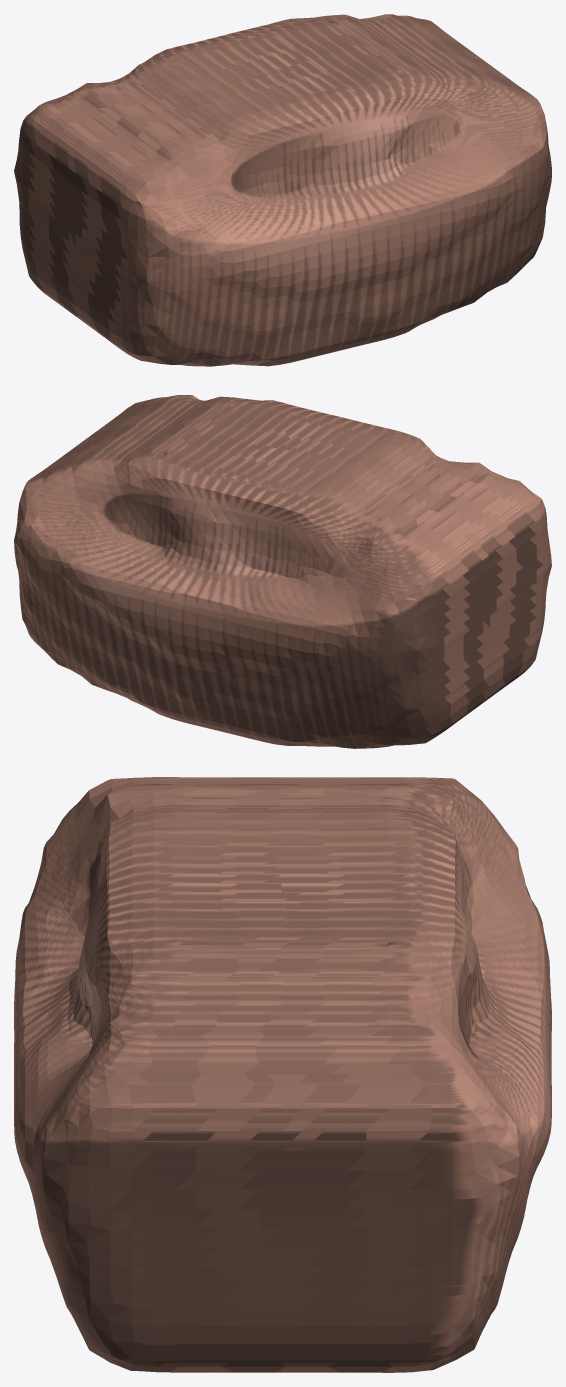
Rendered from ring-midas.glb.
3 renders of one model, top to bottom at view 1: azimuth 30°, elevation 25°; view 2: azimuth 150°, elevation 25°; view 3: azimuth 270°, elevation 25°, orthographic. The views are drawn at different scales.
Parts seen in each view (by area): view 1: model; view 2: model; view 3: model.
Part boxes in pixels (x1,y1,x2,y2): model: [14, 14, 551, 366]; model: [14, 395, 551, 748]; model: [14, 777, 551, 1372].
Size of the model in its own units: 1 by 0.5603 by 0.6939.
Materials: 1 (1 with a texture image).
